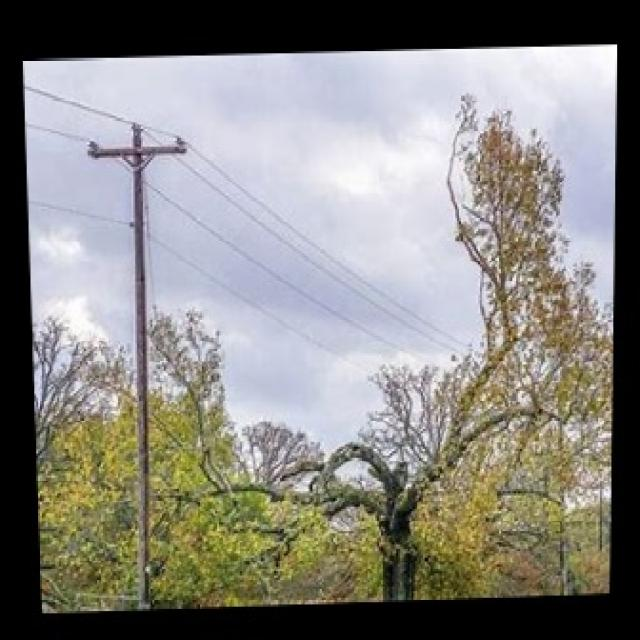utility poles: (95, 102, 199, 608)
